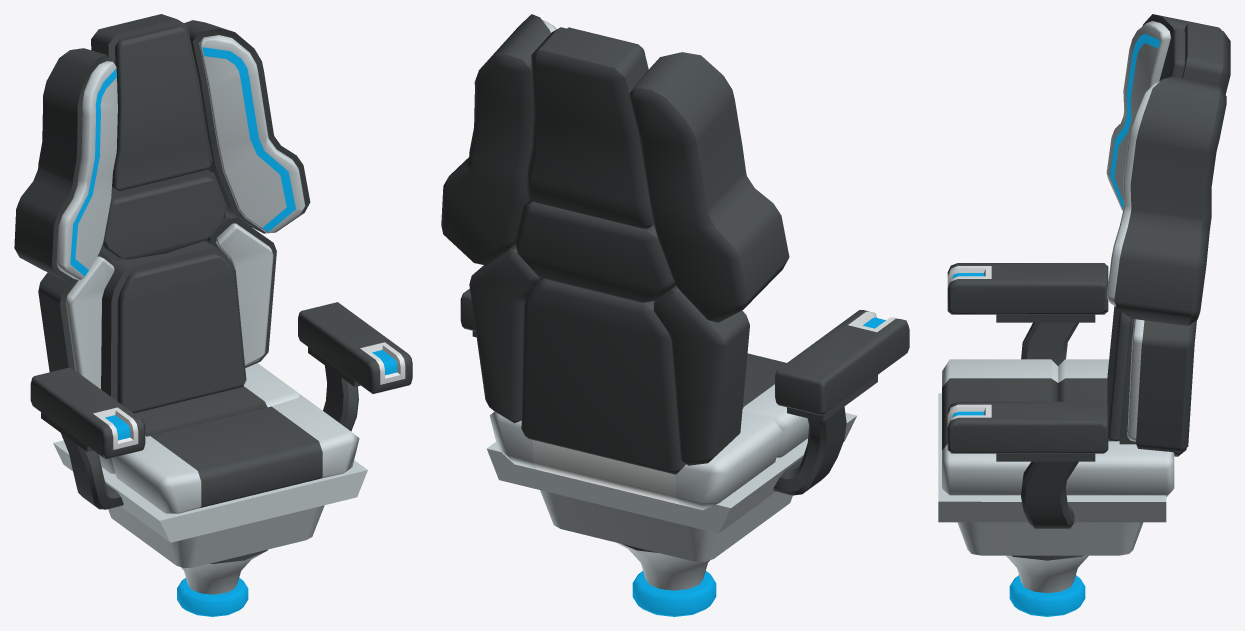
File: Armchair_002.glb
3 views of the same model, side by side, from view 1: azimuth 30°, elevation 25°; view 2: azimuth 150°, elevation 25°; view 3: azimuth 270°, elevation 25° (orthographic). The views are drawn at different scales.
Parts seen in each view (by area): view 1: Armchair_002; view 2: Armchair_002; view 3: Armchair_002.
Part boxes in pixels (x1,y1,x2,y2): Armchair_002: (14,14,412,616); Armchair_002: (441,14,909,616); Armchair_002: (938,14,1230,616).
Size of the model in its own units: 0.9047 by 1.48 by 0.6942.
2 materials, 2 textured.
